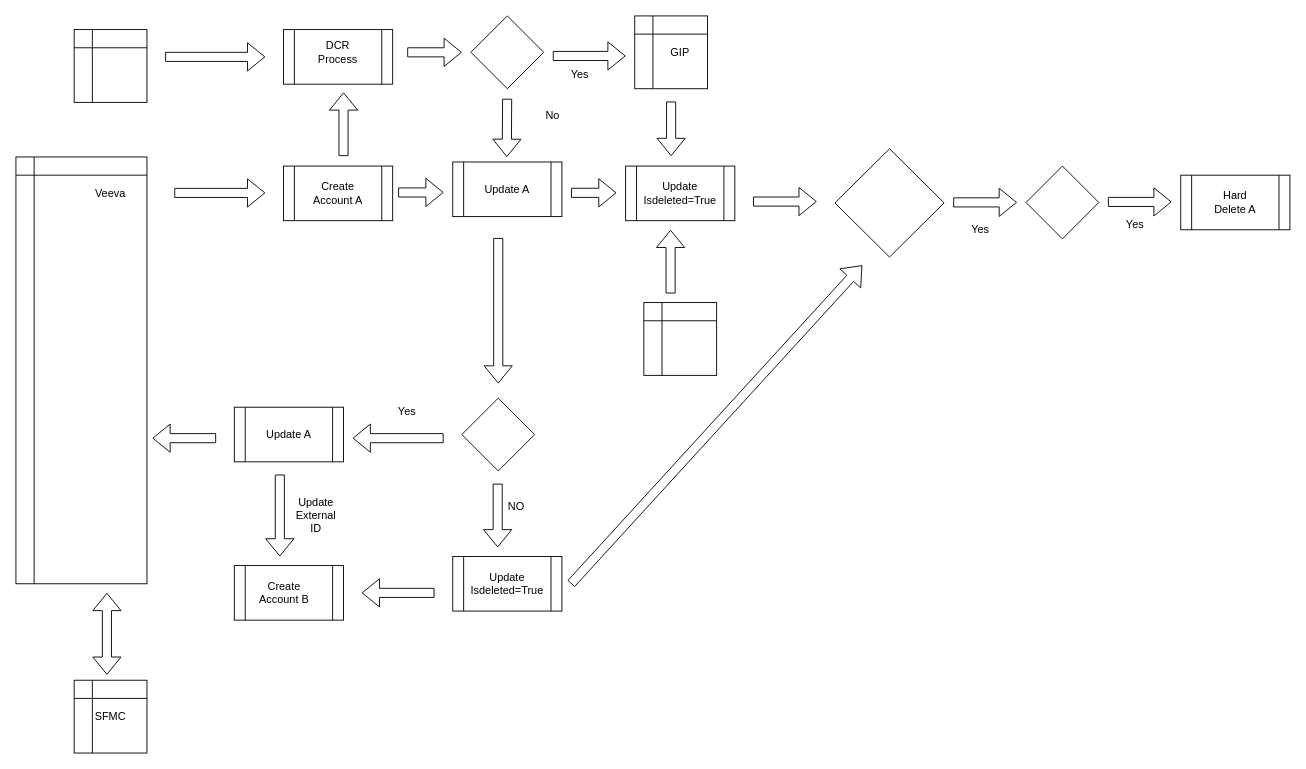
This 1306x769 diagram has some shape labels left out. Here are the shapes that lost their labels. From the top down, the centre of each, then its label:
pixel 110 65: MDM
pixel 507 52: Is Rejected?
pixel 889 202: is 15 Days Passed?
pixel 1062 202: Is DDZ Reading?
pixel 680 338: DDZ
pixel 498 434: Is Winner?
